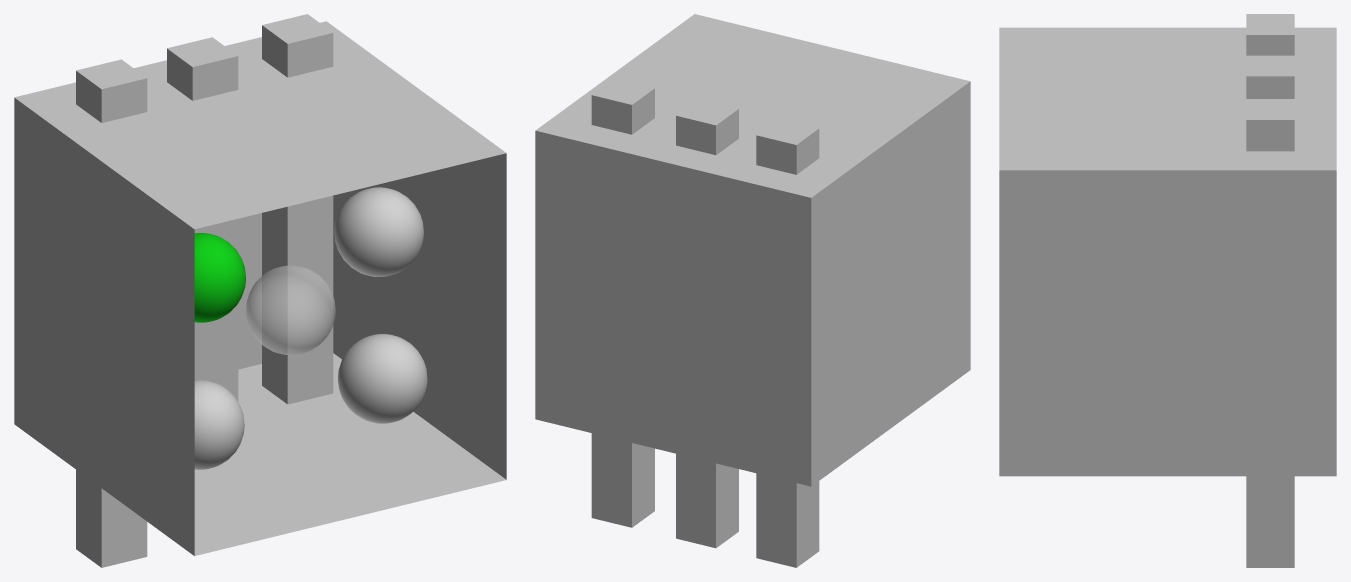
File: cornell.obj
The picture shows the model from 3 angles, left to right: view 1: azimuth 30°, elevation 25°; view 2: azimuth 150°, elevation 25°; view 3: azimuth 270°, elevation 25°; orthographic projection. The views are drawn at different scales.
Visible parts, largest first — view 1: Cube.001, Cube_Cube.002, Cube.003_Cube.004, Cube.002_Cube.003, SphereSpecularTranslucent_Sphere.001, SphereSpecular_Sphere.003, SphereTranslucent_Sphere.002, SphereDiffuse_Sphere, SphereEmitting_Sphere.004; view 2: Cube.001, Cube.003_Cube.004, Cube_Cube.002, Cube.002_Cube.003; view 3: Cube.001, Cube_Cube.002, Cube.002_Cube.003, Cube.003_Cube.004.
Part boxes in pixels (box(x1,y1,x2,y2)): Cube.001: box(14, 21, 506, 555); Cube_Cube.002: box(262, 14, 333, 404); Cube.003_Cube.004: box(76, 59, 147, 567); Cube.002_Cube.003: box(167, 37, 238, 401); SphereSpecularTranslucent_Sphere.001: box(246, 265, 335, 355); SphereSpecular_Sphere.003: box(338, 334, 427, 423); SphereTranslucent_Sphere.002: box(334, 187, 423, 276); SphereDiffuse_Sphere: box(194, 233, 245, 322); SphereEmitting_Sphere.004: box(194, 380, 244, 469); Cube.001: box(535, 14, 970, 486); Cube.003_Cube.004: box(756, 118, 819, 567); Cube_Cube.002: box(591, 78, 654, 527); Cube.002_Cube.003: box(676, 99, 738, 548); Cube.001: box(999, 27, 1336, 476); Cube_Cube.002: box(1246, 99, 1294, 567); Cube.002_Cube.003: box(1246, 55, 1294, 98); Cube.003_Cube.004: box(1246, 14, 1294, 55).
Size of the model in its own units: 2 by 2.93 by 2.
